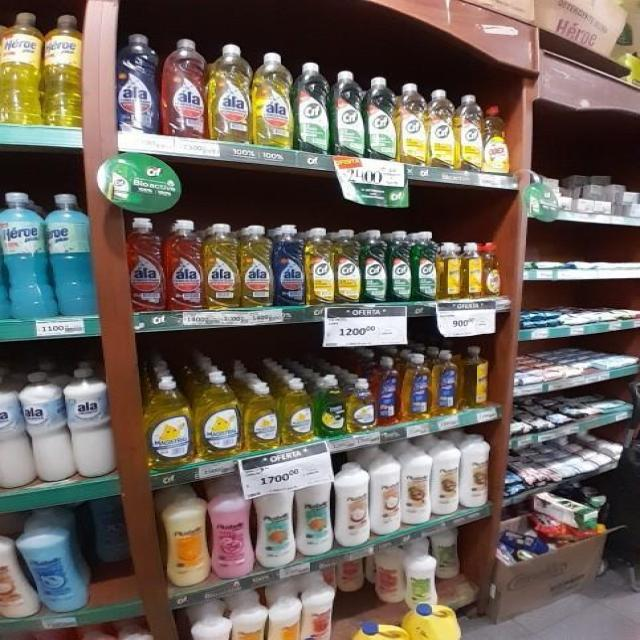ala_conc_amarillo: (208, 43, 250, 143), (253, 51, 293, 149), (205, 222, 239, 309), (240, 224, 272, 308)
ala_conc_azul: (115, 33, 158, 134), (274, 224, 305, 307)
ala_conc_rojo: (161, 38, 206, 139), (124, 217, 164, 312), (166, 219, 204, 311)
ala_crem_blanco: (68, 366, 115, 479), (25, 371, 66, 484), (0, 372, 27, 490)
cif_conc_bot_amarilla: (398, 82, 427, 165), (428, 88, 456, 168), (306, 228, 334, 305), (456, 93, 483, 171), (336, 228, 360, 305)
cif_conc_botella_verde: (295, 61, 330, 155), (332, 70, 364, 158), (366, 76, 396, 162), (362, 230, 387, 303), (412, 230, 437, 302), (388, 230, 411, 302)
magistral_con_amarillo: (142, 375, 193, 468), (196, 371, 240, 459), (244, 381, 279, 450), (282, 378, 314, 444), (347, 378, 375, 432)
magistral_con_verde: (315, 374, 346, 438)
odex: (484, 104, 510, 173), (484, 242, 502, 297)
zorro: (401, 351, 430, 421), (431, 349, 459, 416), (376, 356, 400, 426)
